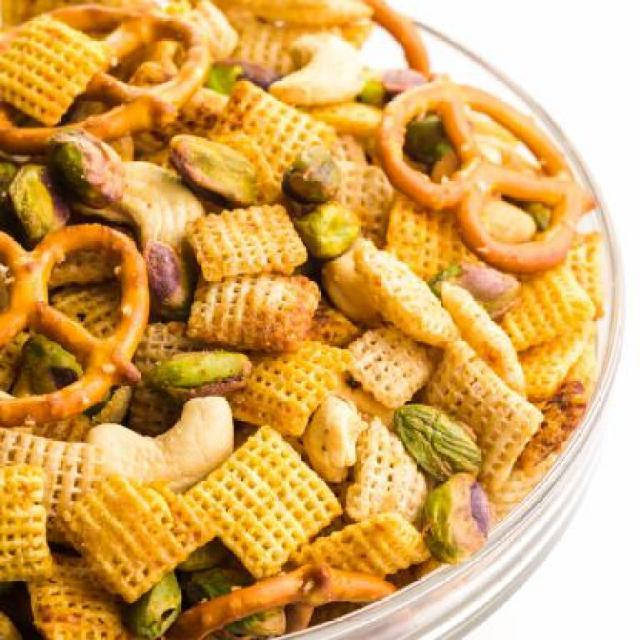Salatini packaged: (9, 5, 598, 630)
